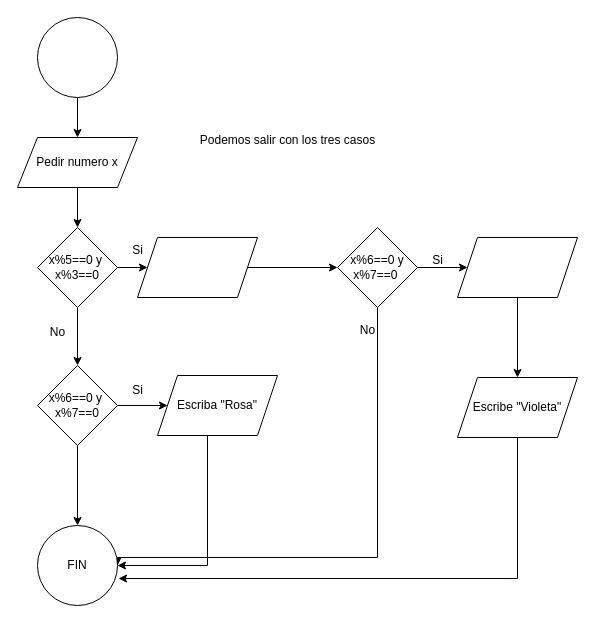
Image size: 595x623. Some labels were removed from this diagram. The shapes that lost their labels are listed below. From the top down, each one's centre as x and y in pixels, then its label:
(77,57): INICIO
(197,267): Escriba "margarita"
(517,267): Escribir "Rosa"
